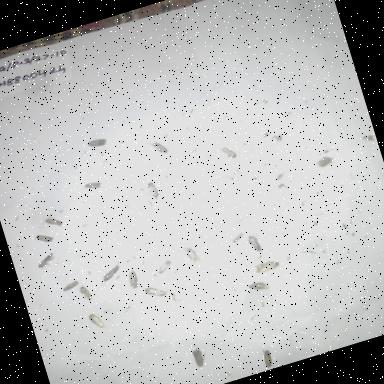pbw: (77, 307, 111, 336), (249, 252, 286, 278), (139, 176, 167, 205), (214, 140, 243, 168), (148, 253, 180, 278), (242, 229, 270, 257), (144, 134, 174, 160), (76, 173, 108, 196), (96, 260, 124, 286), (185, 344, 211, 372), (242, 276, 272, 300), (83, 131, 114, 154), (142, 278, 171, 302), (120, 264, 144, 290), (258, 343, 282, 369), (56, 274, 84, 296), (42, 210, 68, 232), (74, 278, 96, 304), (32, 228, 58, 249), (183, 243, 205, 266), (34, 249, 58, 270), (227, 230, 246, 245)
